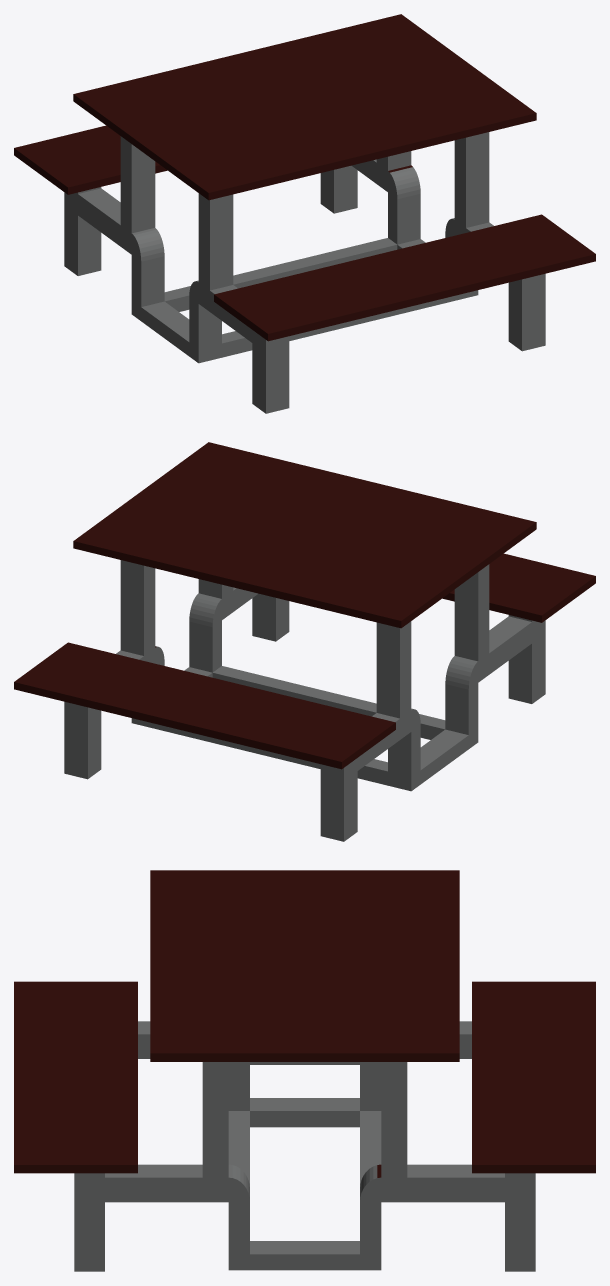
Rendered from Bench.glb.
The picture shows the model from 3 angles, top to bottom: view 1: azimuth 30°, elevation 25°; view 2: azimuth 150°, elevation 25°; view 3: azimuth 270°, elevation 25°; orthographic projection. The views are drawn at different scales.
Parts seen in each view (by area): view 1: Ochair; view 2: Ochair; view 3: Ochair.
Part boxes in pixels (<box>): Ochair: <box>14,14,595,413</box>; Ochair: <box>14,442,595,841</box>; Ochair: <box>14,870,595,1271</box>.
Size of the model in its own units: 1.4 by 0.8258 by 1.88.
